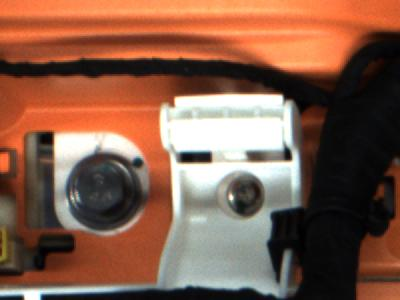nut_b: (60, 151, 148, 229)
